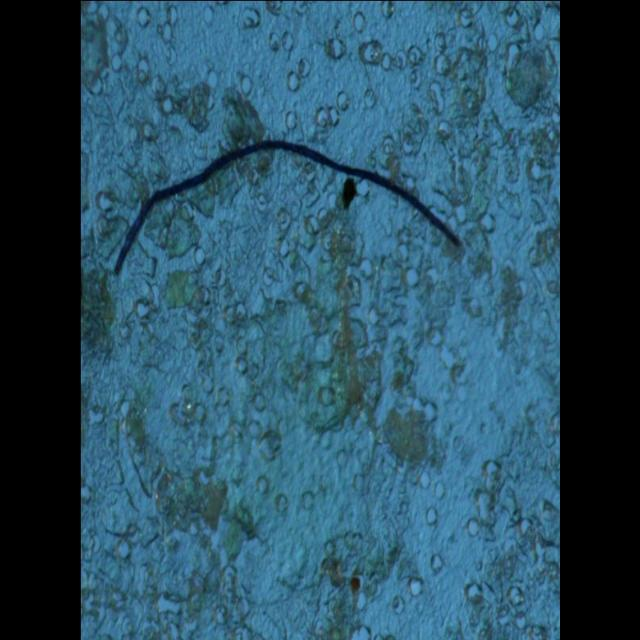Fibre: (112, 139, 462, 277)
